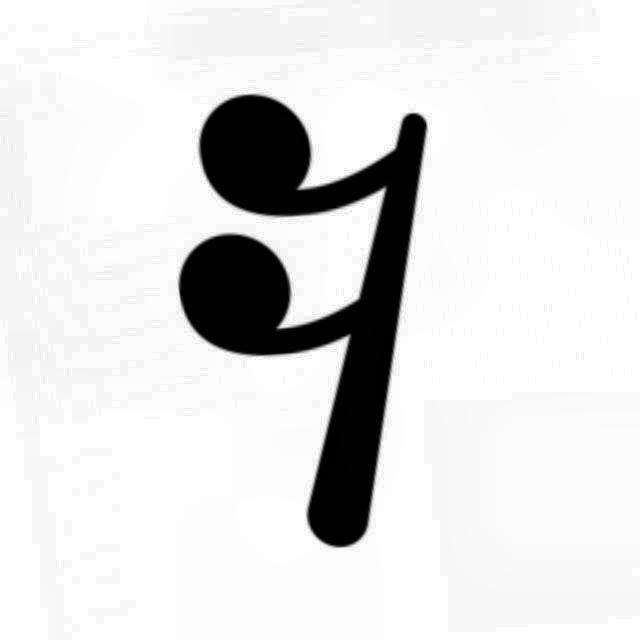Eighth-rest: (138, 65, 510, 575)
